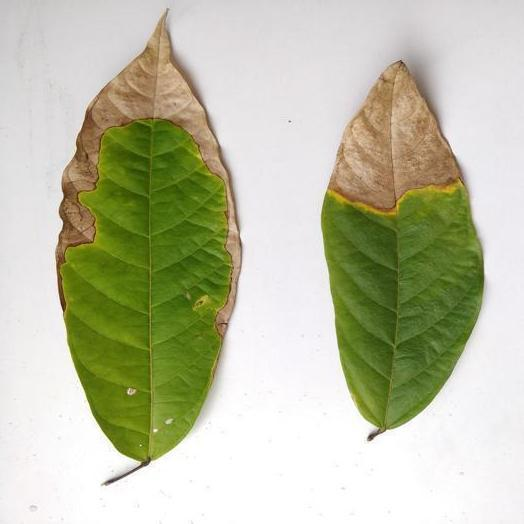Potassium: (57, 16, 239, 472), (322, 61, 483, 439)
